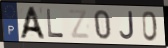0: (93, 9, 113, 41), (141, 10, 159, 42)
A: (18, 6, 47, 41)
J: (119, 10, 136, 41)
L: (45, 8, 65, 39)
Z: (67, 8, 92, 40)
